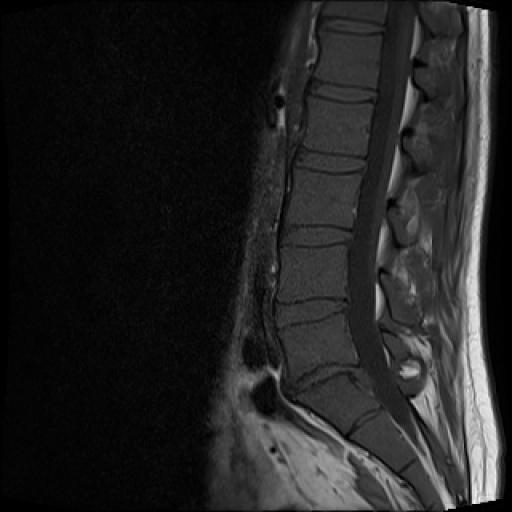L1: (314, 30, 382, 88)
L2: (303, 96, 374, 156)
L3: (286, 168, 361, 228)
L4: (278, 244, 347, 302)
L5: (278, 313, 359, 380)
S1: (290, 372, 380, 436)
